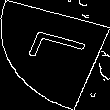L_E: (19, 32, 91, 78)
